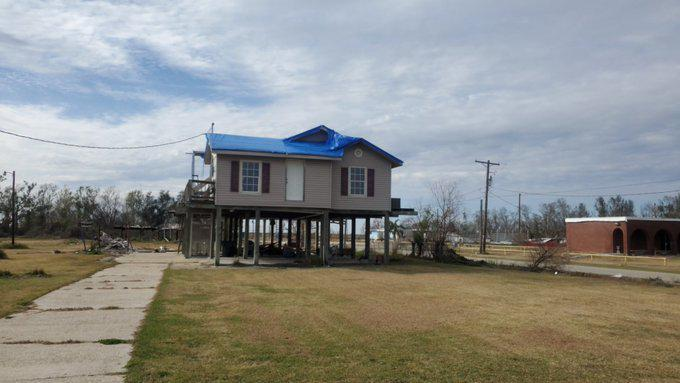minor: (185, 107, 410, 273)
